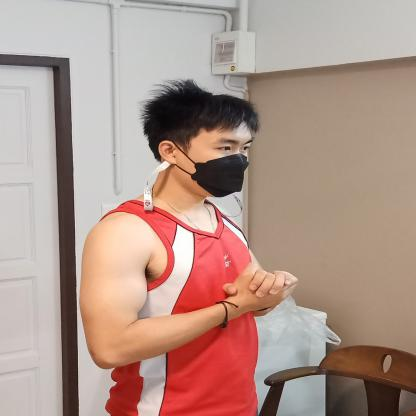Grieve: (154, 104, 266, 177), (234, 259, 234, 269)
